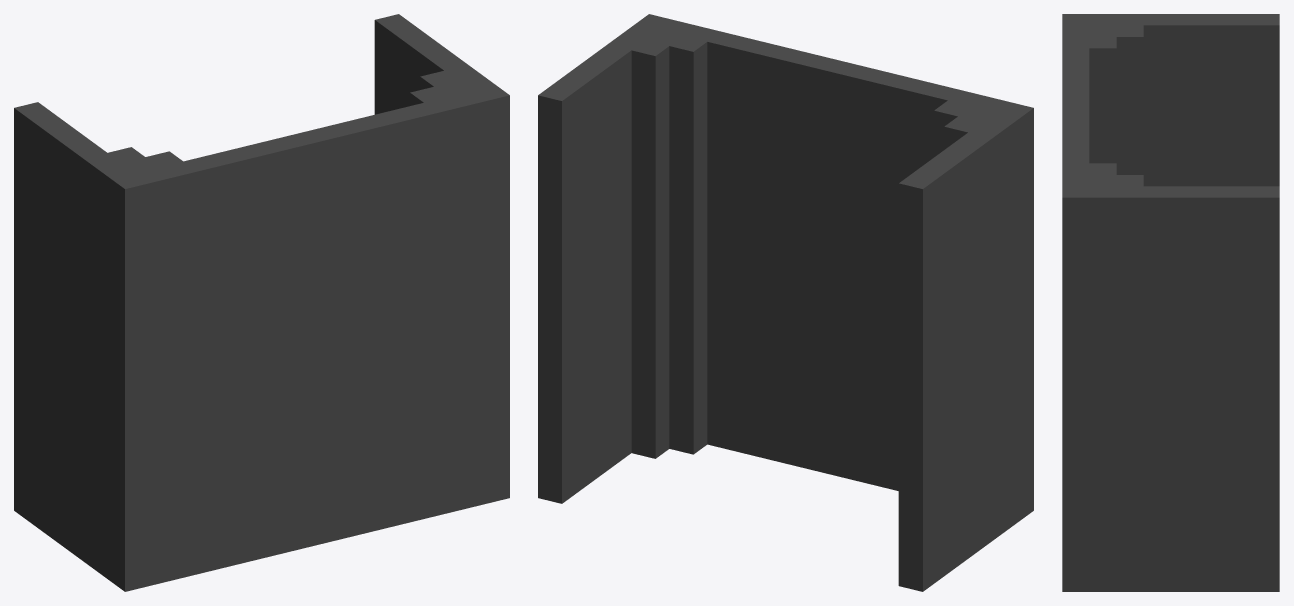
Rendered from ubeam_wide.obj.
3 views of the same model, side by side, from view 1: azimuth 30°, elevation 25°; view 2: azimuth 150°, elevation 25°; view 3: azimuth 270°, elevation 25° (orthographic). The views are drawn at different scales.
Size of the model in its own units: 1.6 by 1.6 by 0.8.
Materials: 1 (1 with a texture image).
